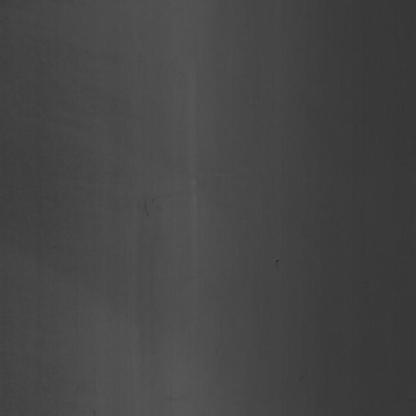inclusion: (138, 193, 158, 227), (272, 254, 283, 277)
